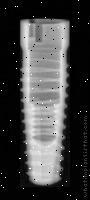Camlog: (15, 19, 70, 187)
